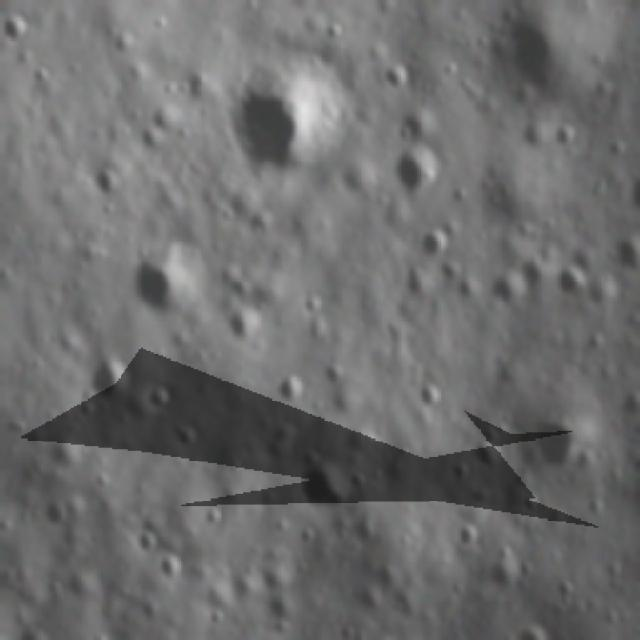crater: (220, 48, 358, 172), (482, 8, 584, 98), (129, 243, 202, 320), (535, 408, 590, 474), (291, 459, 354, 513), (391, 145, 449, 203), (87, 353, 139, 402), (253, 588, 304, 627), (220, 306, 266, 349), (486, 267, 528, 313), (44, 430, 88, 472), (397, 108, 437, 152), (416, 224, 453, 261), (552, 262, 590, 298), (470, 434, 505, 471), (1, 12, 32, 52), (348, 583, 384, 617), (610, 234, 638, 277), (513, 258, 549, 291), (153, 554, 190, 583), (146, 378, 174, 416), (277, 371, 306, 407), (488, 561, 520, 593), (42, 496, 72, 530), (138, 120, 167, 154), (172, 420, 203, 451), (302, 288, 330, 322), (351, 514, 382, 544), (96, 166, 125, 197), (382, 62, 411, 92), (416, 382, 447, 410), (457, 518, 481, 554), (554, 118, 580, 151), (550, 576, 578, 606), (518, 490, 544, 521), (137, 527, 161, 558), (320, 361, 348, 387), (350, 462, 372, 492), (518, 557, 537, 581), (495, 542, 516, 562)
